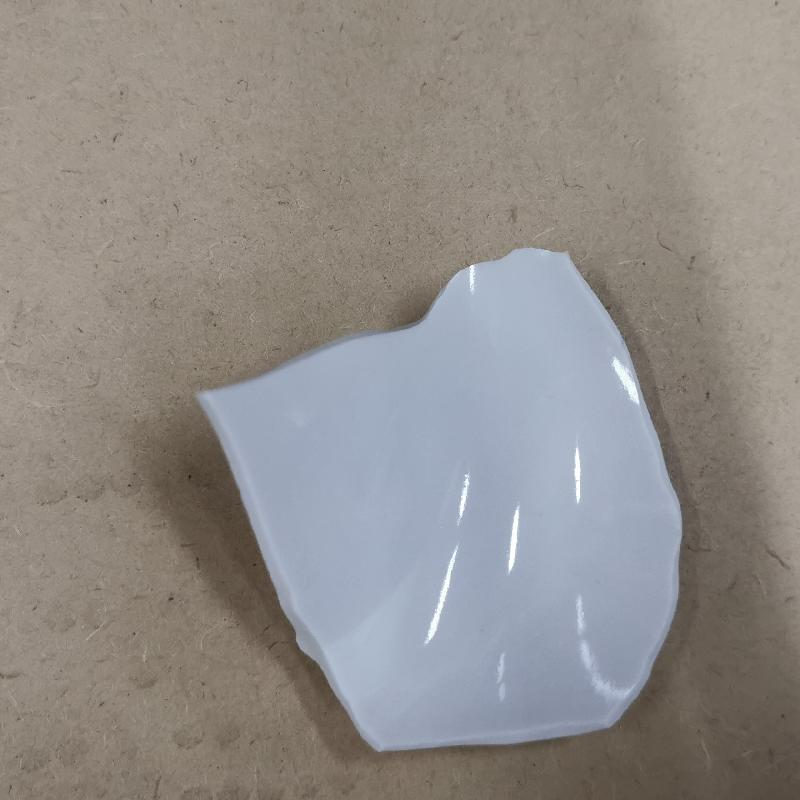ceram: (192, 247, 689, 756)
